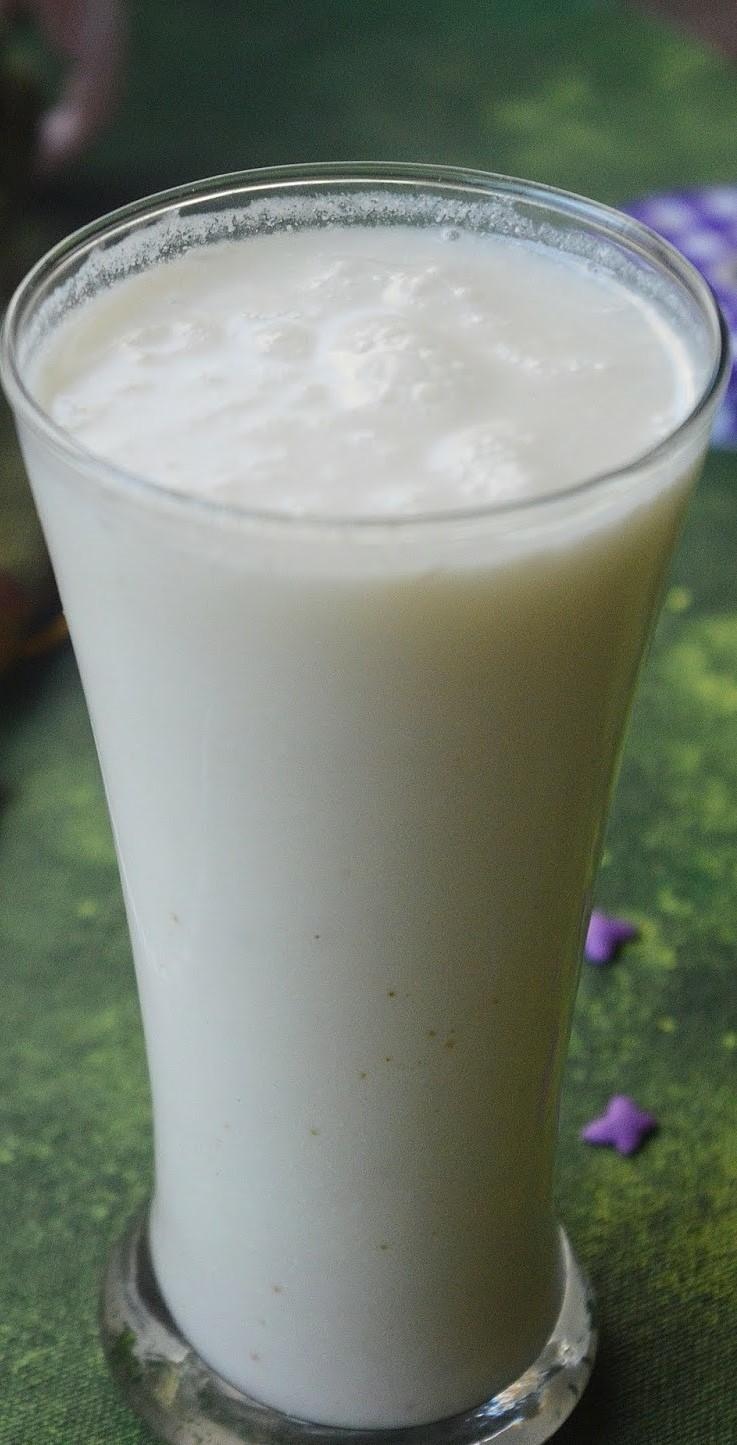Lassi: (14, 223, 704, 1433)
